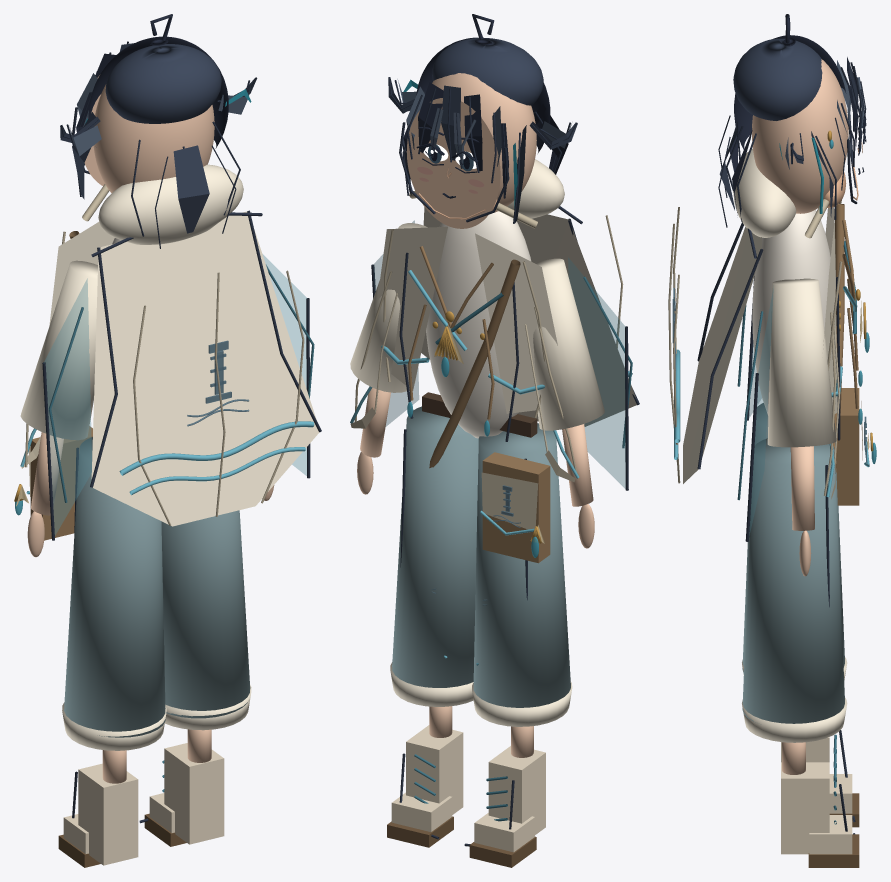
Rendered from xy_char_anime_protagonist.glb.
3 renders of one model, left to right at view 1: azimuth 30°, elevation 25°; view 2: azimuth 150°, elevation 25°; view 3: azimuth 270°, elevation 25°, orthographic. The views are drawn at different scales.
Parts seen in each view (by area): view 1: XYAN_CapePanel_back_cloak_broad_cloth, XYAN_Body, XYAN_Body_wide_cropped_pants_-1, XYAN_Body_flared_sleeve_-1, XYAN_CapePanel_side_translucent_blue_tail_-1, XYAN_HairCap_crown_volume, XYAN_Body_anime_head, XYAN_CapePanel_soft_hood_back, XYAN_Body_lace_boot_-1, XYAN_Satchel_front_bag_body, XYAN_HairLock_nape_center, XYAN_Body_pants_cuff_-1 (+16 smaller); view 2: XYAN_Body, XYAN_Body_wide_cropped_pants_-1, XYAN_Body_torso, XYAN_Body_flared_sleeve_-1, XYAN_CapePanel_back_cloak_broad_cloth, XYAN_CapePanel_front_shoulder_drape_-1, XYAN_CapePanel_side_translucent_blue_tail_-1, XYAN_FacePlane_soft_anime_face, XYAN_CapePanel_front_shoulder_drape_1, XYAN_HairCap_crown_volume, XYAN_Satchel_front_bag_body, XYAN_Body_anime_head (+17 smaller); view 3: XYAN_Body, XYAN_Body_anime_head, XYAN_Body_torso, XYAN_CapePanel_back_cloak_broad_cloth, XYAN_HairCap_crown_volume, XYAN_CapePanel_soft_hood_back, XYAN_Satchel_front_bag_body, XYAN_CapePanel_side_translucent_blue_tail_1, XYAN_Satchel_crossbody_strap, XYAN_HairCap_layered_dark_cap, XYAN_Body_wide_cropped_pants_-1, XYAN_CapePanel_front_shoulder_drape_1 (+11 smaller).
Part boxes in pixels (bbox=[...]): XYAN_CapePanel_back_cloak_broad_cloth: bbox=[91, 211, 319, 526]; XYAN_Body: bbox=[144, 485, 274, 846]; XYAN_Body_wide_cropped_pants_-1: bbox=[64, 437, 165, 737]; XYAN_Body_flared_sleeve_-1: bbox=[20, 260, 97, 440]; XYAN_CapePanel_side_translucent_blue_tail_-1: bbox=[44, 278, 91, 535]; XYAN_HairCap_crown_volume: bbox=[105, 44, 221, 123]; XYAN_Body_anime_head: bbox=[93, 84, 214, 193]; XYAN_CapePanel_soft_hood_back: bbox=[98, 164, 243, 244]; XYAN_Body_lace_boot_-1: bbox=[78, 763, 138, 865]; XYAN_Satchel_front_bag_body: bbox=[30, 426, 92, 540]; XYAN_HairLock_nape_center: bbox=[173, 145, 209, 233]; XYAN_Body_pants_cuff_-1: bbox=[62, 702, 166, 750]; XYAN_Body: bbox=[350, 223, 487, 847]; XYAN_Body_wide_cropped_pants_-1: bbox=[473, 423, 570, 707]; XYAN_Body_torso: bbox=[426, 211, 531, 438]; XYAN_Body_flared_sleeve_-1: bbox=[533, 258, 604, 430]; XYAN_CapePanel_back_cloak_broad_cloth: bbox=[421, 207, 636, 426]; XYAN_CapePanel_front_shoulder_drape_-1: bbox=[475, 233, 557, 413]; XYAN_CapePanel_side_translucent_blue_tail_-1: bbox=[568, 257, 625, 488]; XYAN_FacePlane_soft_anime_face: bbox=[406, 98, 500, 228]; XYAN_CapePanel_front_shoulder_drape_1: bbox=[377, 226, 447, 390]; XYAN_HairCap_crown_volume: bbox=[432, 37, 543, 105]; XYAN_Satchel_front_bag_body: bbox=[482, 452, 550, 563]; XYAN_Body_anime_head: bbox=[432, 73, 536, 212]; XYAN_Body: bbox=[742, 278, 859, 867]; XYAN_Body_anime_head: bbox=[752, 59, 848, 213]; XYAN_Body_torso: bbox=[752, 210, 830, 415]; XYAN_CapePanel_back_cloak_broad_cloth: bbox=[683, 227, 761, 483]; XYAN_HairCap_crown_volume: bbox=[733, 38, 822, 120]; XYAN_CapePanel_soft_hood_back: bbox=[733, 148, 796, 237]; XYAN_Satchel_front_bag_body: bbox=[836, 388, 859, 505]; XYAN_CapePanel_side_translucent_blue_tail_1: bbox=[749, 288, 773, 534]; XYAN_Satchel_crossbody_strap: bbox=[833, 204, 844, 473]; XYAN_HairCap_layered_dark_cap: bbox=[734, 35, 846, 149]; XYAN_Body_wide_cropped_pants_-1: bbox=[742, 403, 844, 673]; XYAN_CapePanel_front_shoulder_drape_1: bbox=[823, 223, 837, 413].
Size of the model in its own units: 0.8463 by 2.55 by 0.5881.
